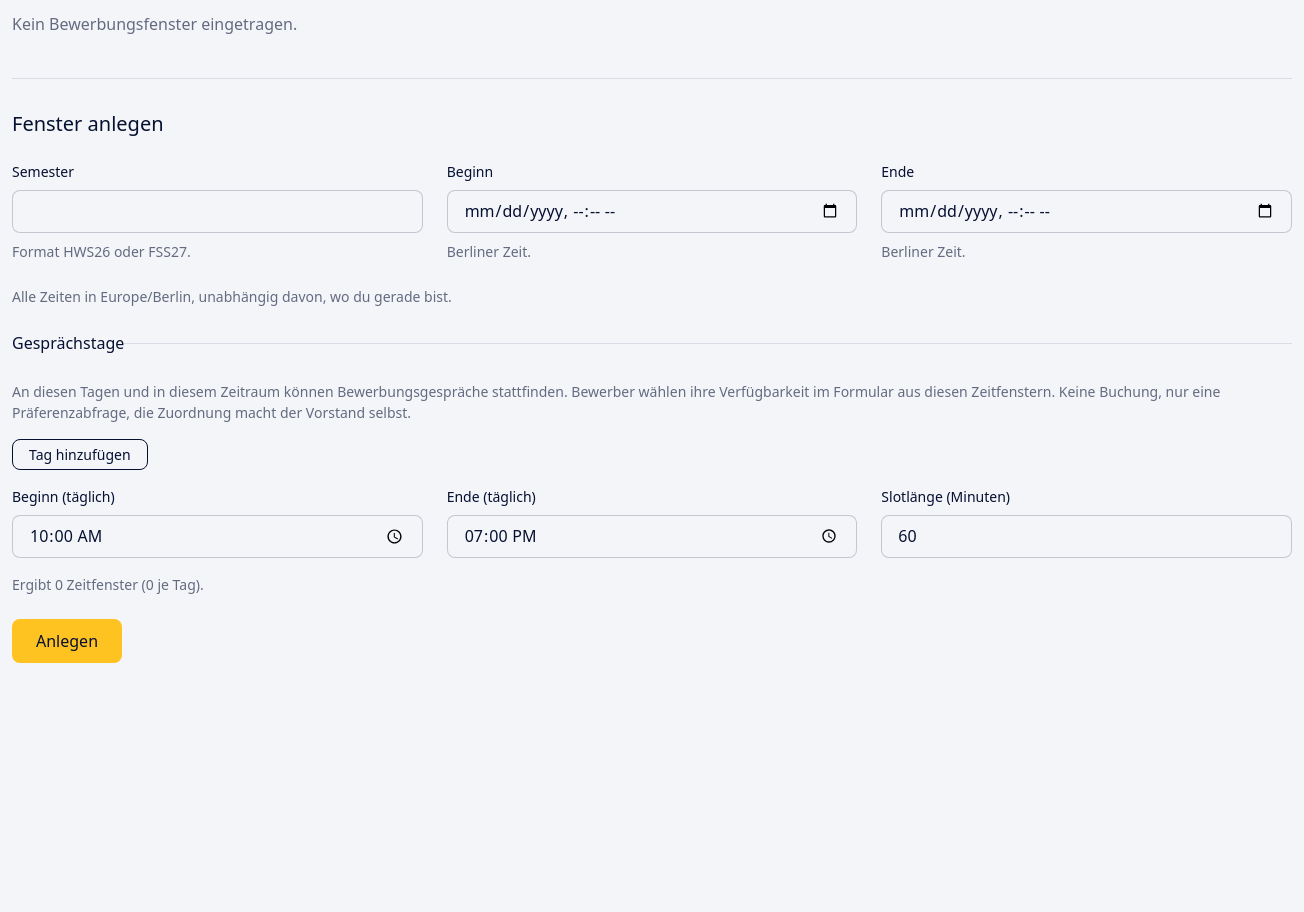
it: RecruitingWindowsManager — interview grid › adds and removes an interview day, updating the live slot count
The width and height of the screenshot is (1304, 912).
Expected: the text "Ergibt 0 Zeitfenster (0 je Tag)." is shown, left=12, top=575, right=204, bottom=594
Click the button "Tag hinzufügen" at (80, 454), box left=12, top=439, right=148, bottom=470
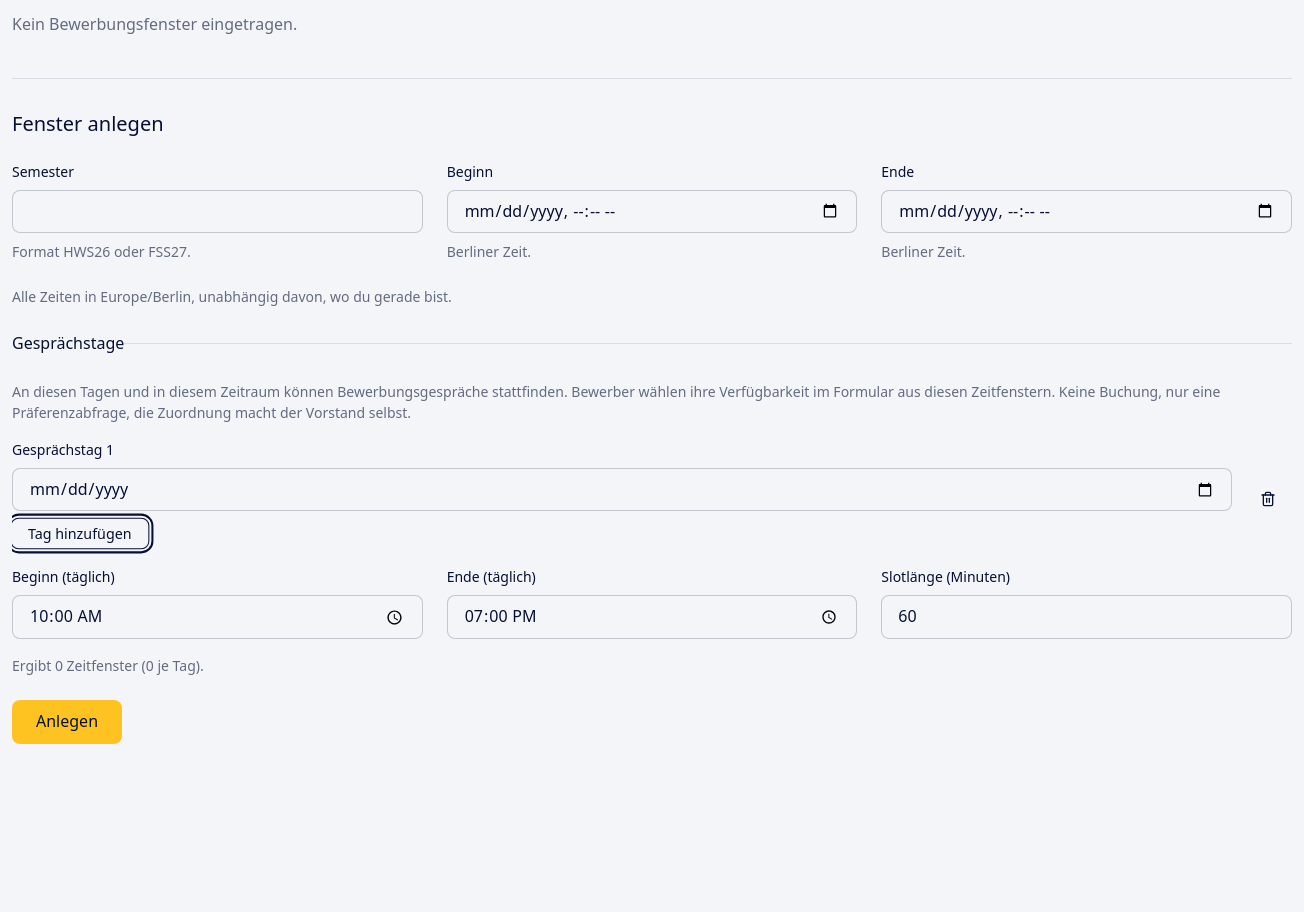
Type "2026-09-15" into the date field labelled "Gesprächstag 1" at (622, 490), box left=12, top=468, right=1232, bottom=511
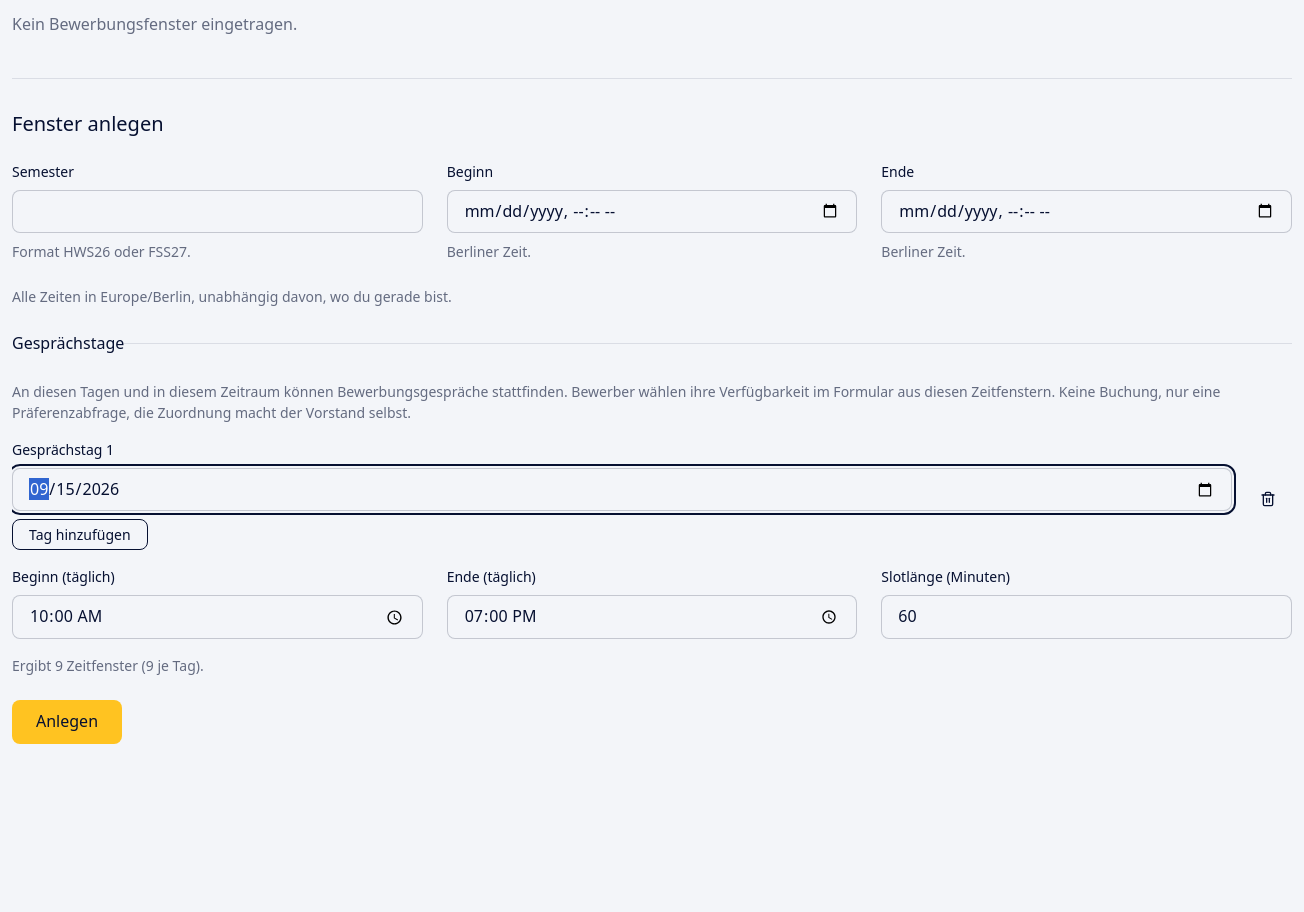
Result: the text "Ergibt 9 Zeitfenster (9 je Tag)." is shown at left=12, top=656, right=204, bottom=675
Click the button named "Gesprächstag 1 entfernen" at (1268, 499), box left=1244, top=487, right=1292, bottom=511
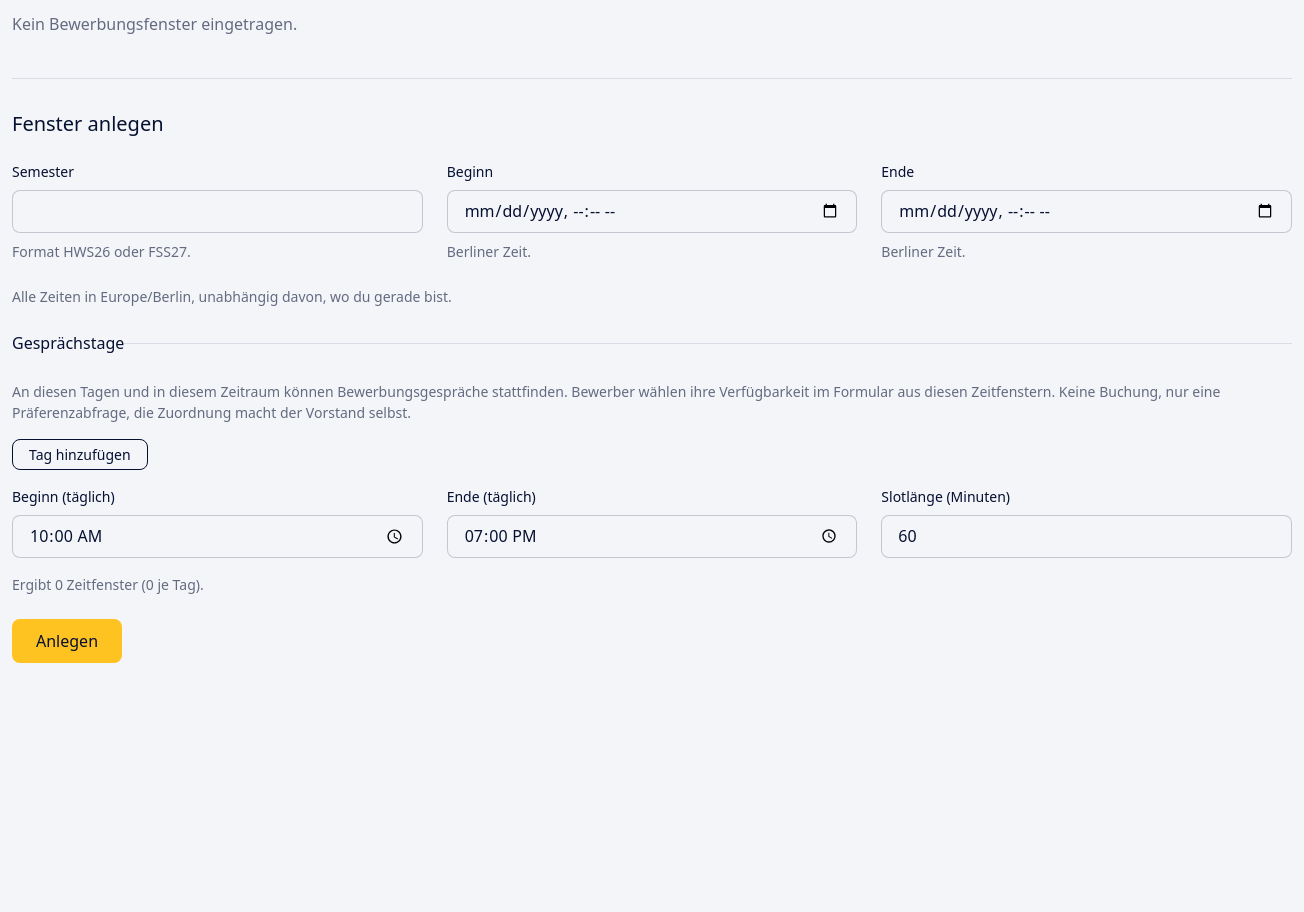
Result: the label labelled "Gesprächstag 1" is gone
Result: the text "Ergibt 0 Zeitfenster (0 je Tag)." is shown at left=12, top=575, right=204, bottom=594
